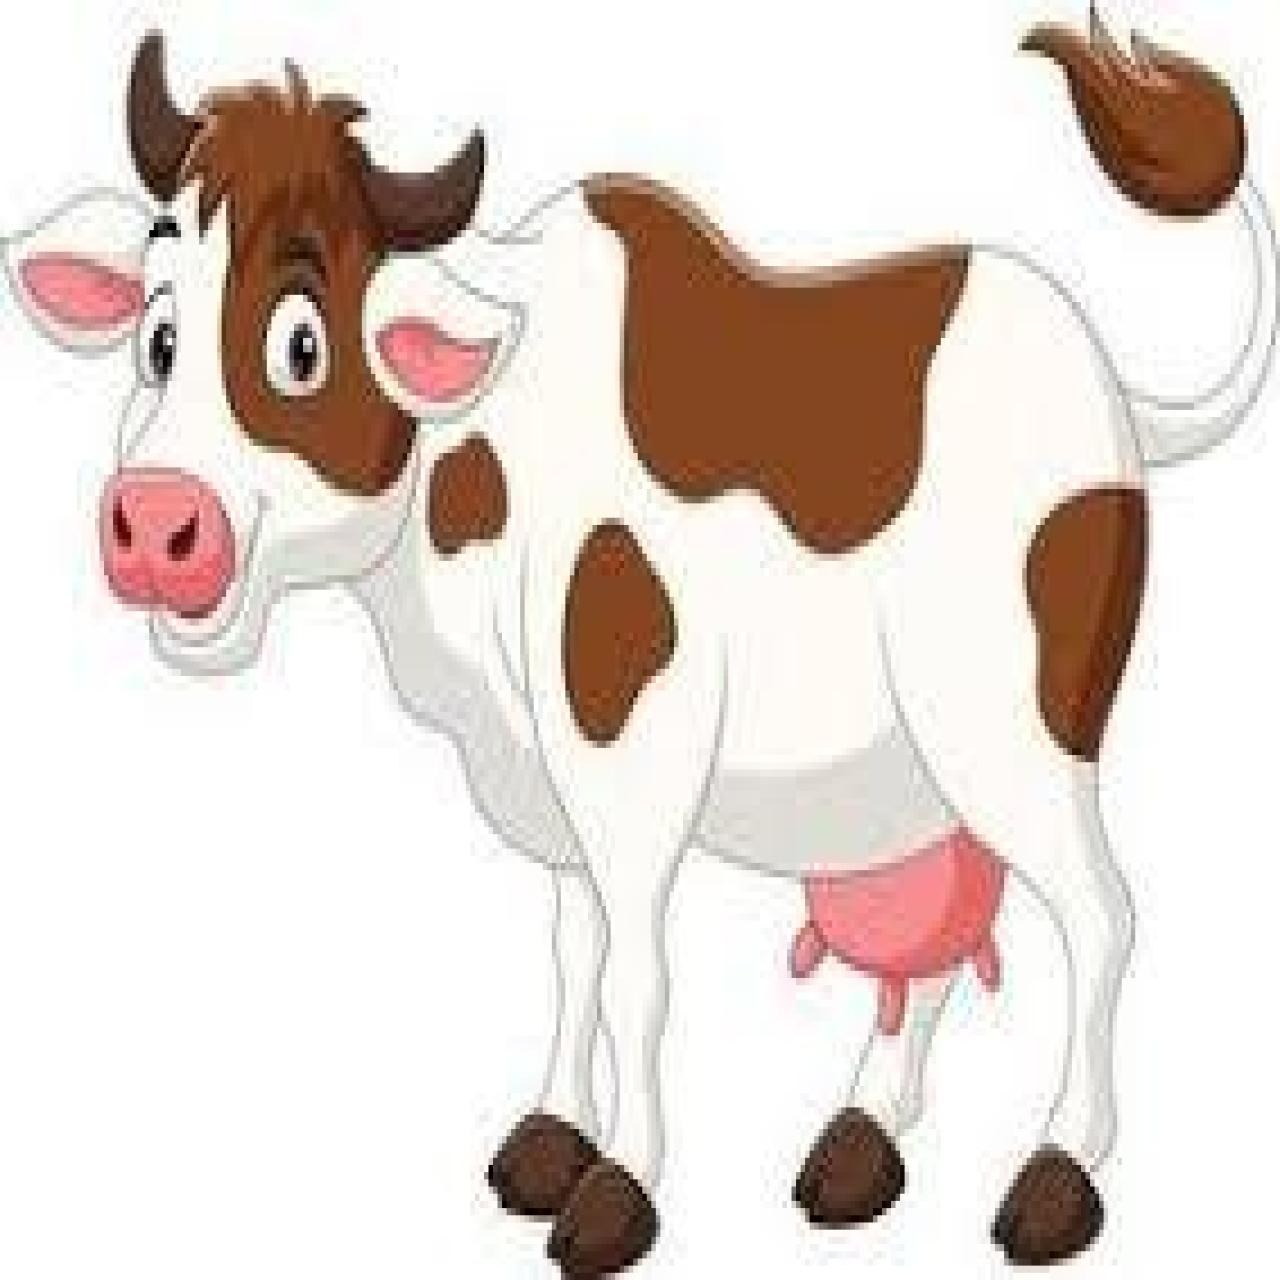cow: (0, 7, 1280, 1280)
